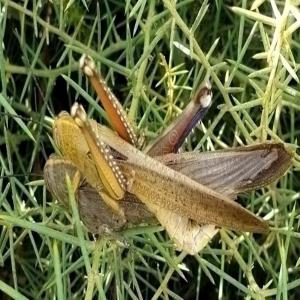locust: (35, 81, 279, 245)
